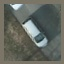car: (20, 15, 51, 48)
